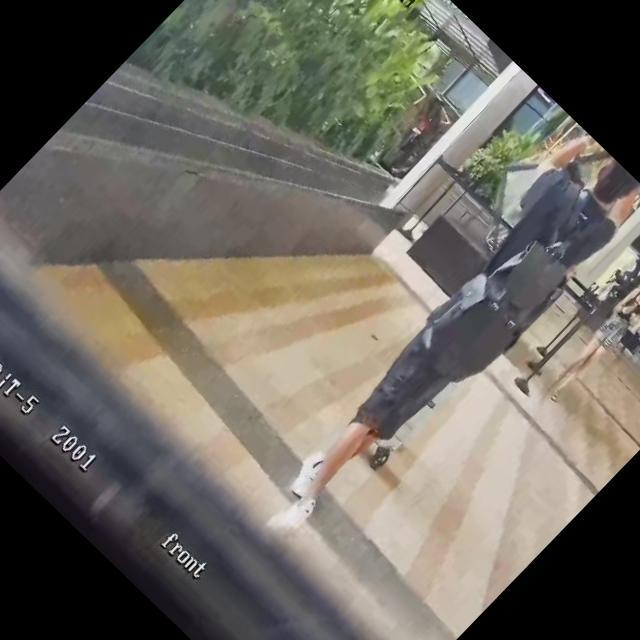person: (237, 127, 640, 555), (537, 263, 640, 407)
